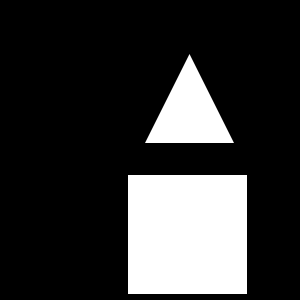circle: (128, 175, 247, 294)
triangle: (145, 54, 234, 143)
